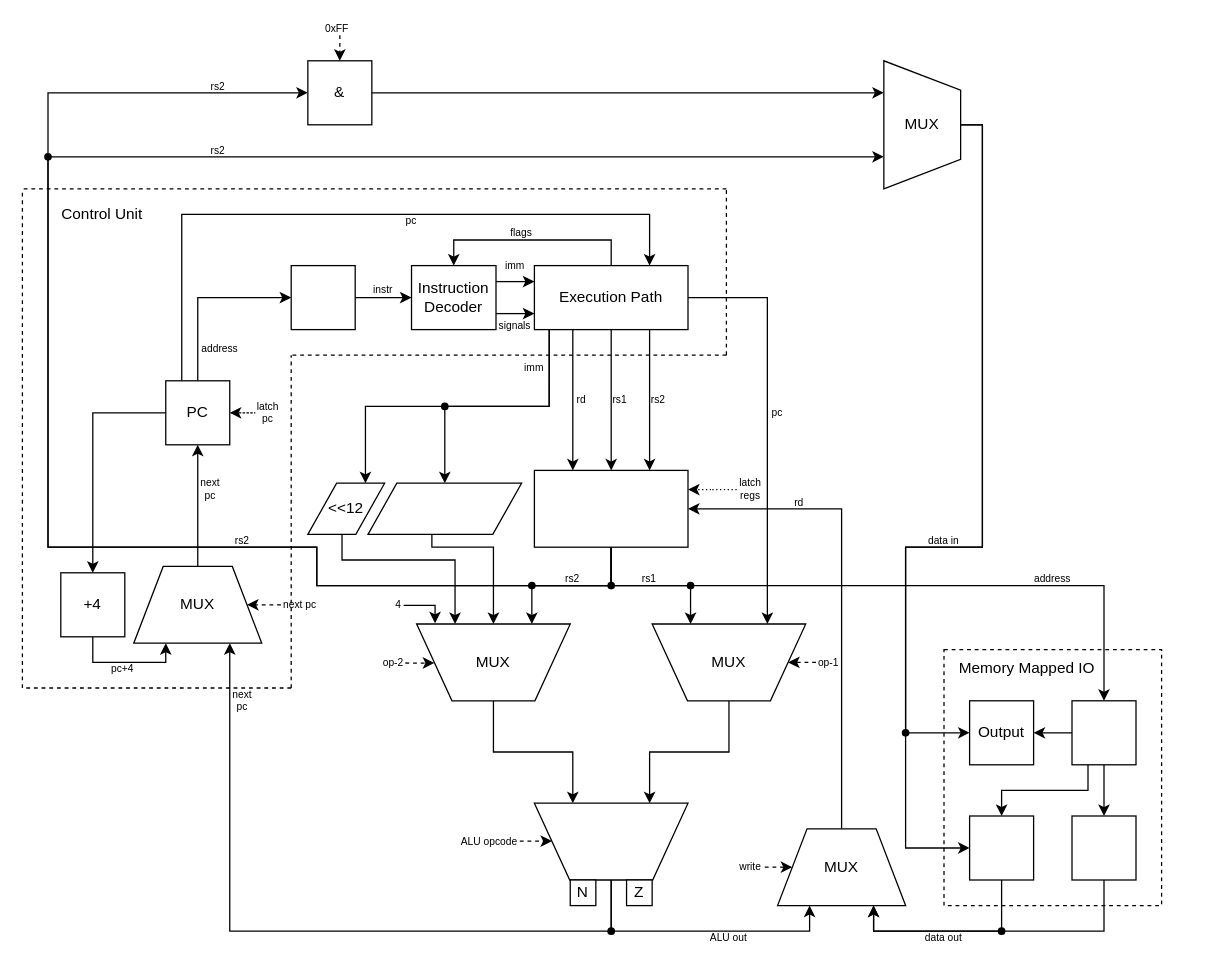
This 1222x978 diagram has some shape labels left out. Each missing label, with the box of its shape:
ALU: (533, 802, 688, 880)
Decoder: (1071, 700, 1136, 765)
I-Mem: (290, 264, 355, 330)
Input: (1071, 815, 1136, 880)
Memory: (968, 815, 1034, 880)
Register file: (533, 469, 688, 547)
Sign Extension: (367, 482, 522, 534)
